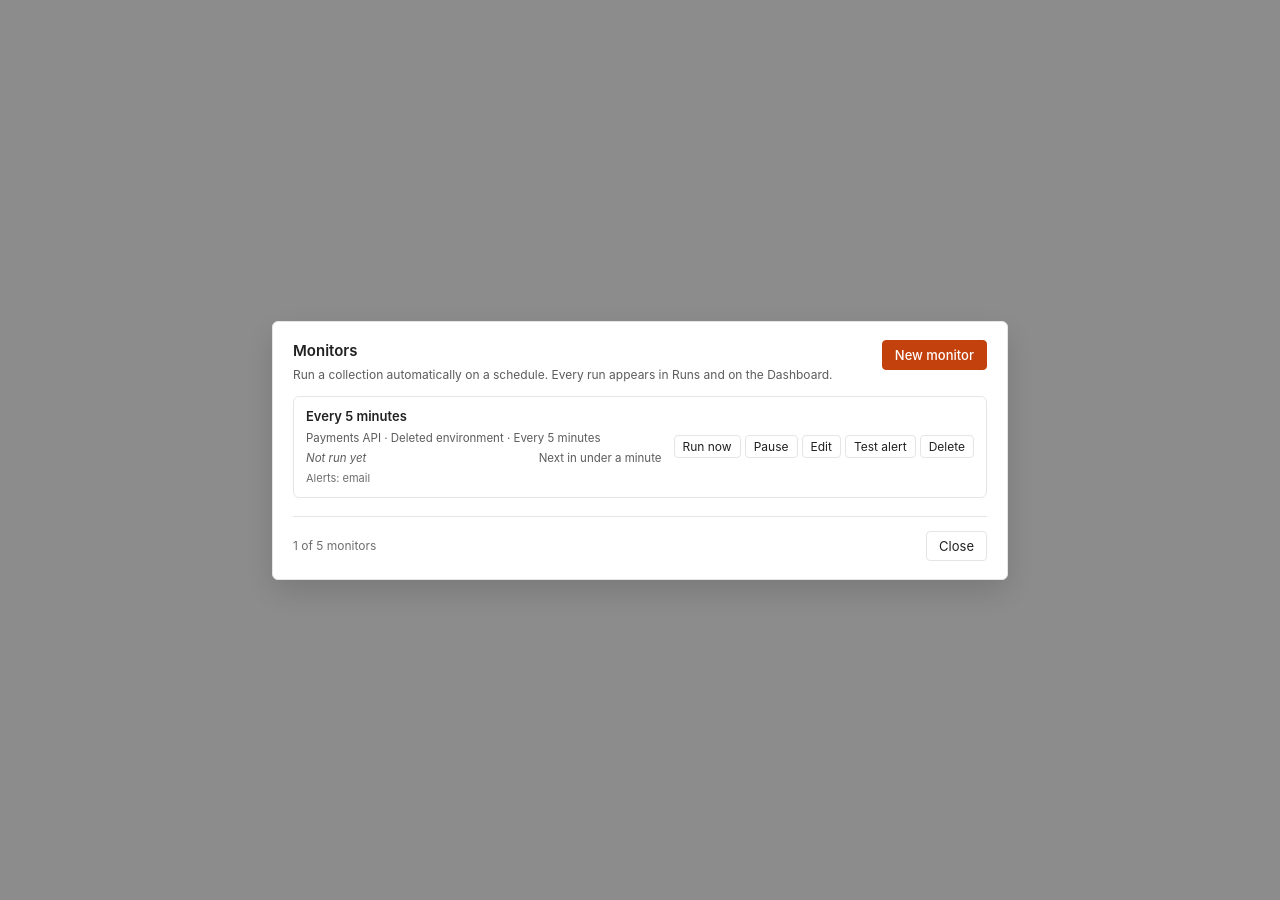
Scenario: MonitorsModal › a monitor whose environment was deleted edits as "No environment", not a dead id
Expected: the text "Payments API · Deleted environment · Every 5 minutes" is shown, [306,430,600,444]
Step 1. Click the button "Edit" → (821, 447), box [802,435,841,458]
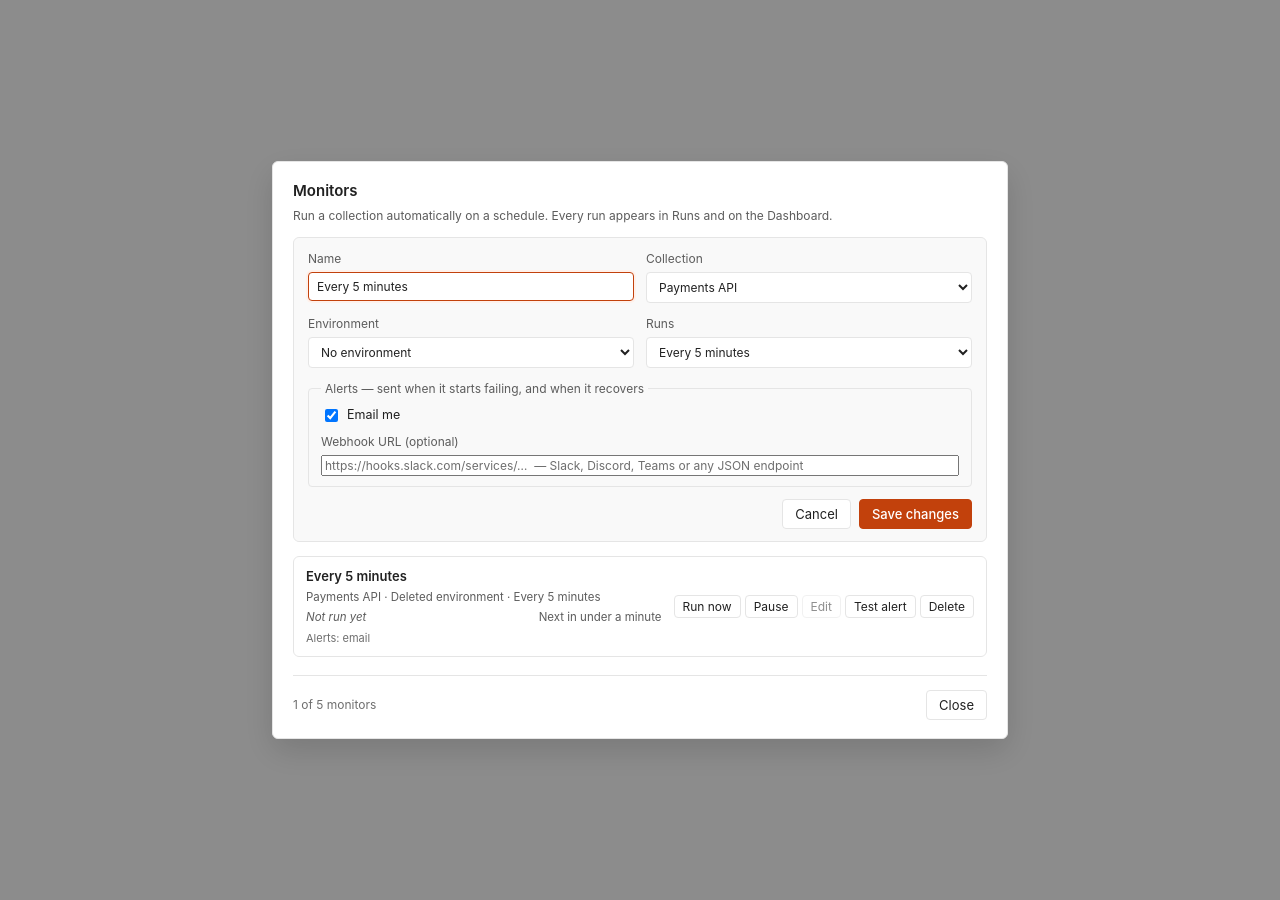
Expected: the dropdown labelled "Environment" shows "No environment", [308,336,634,368]
